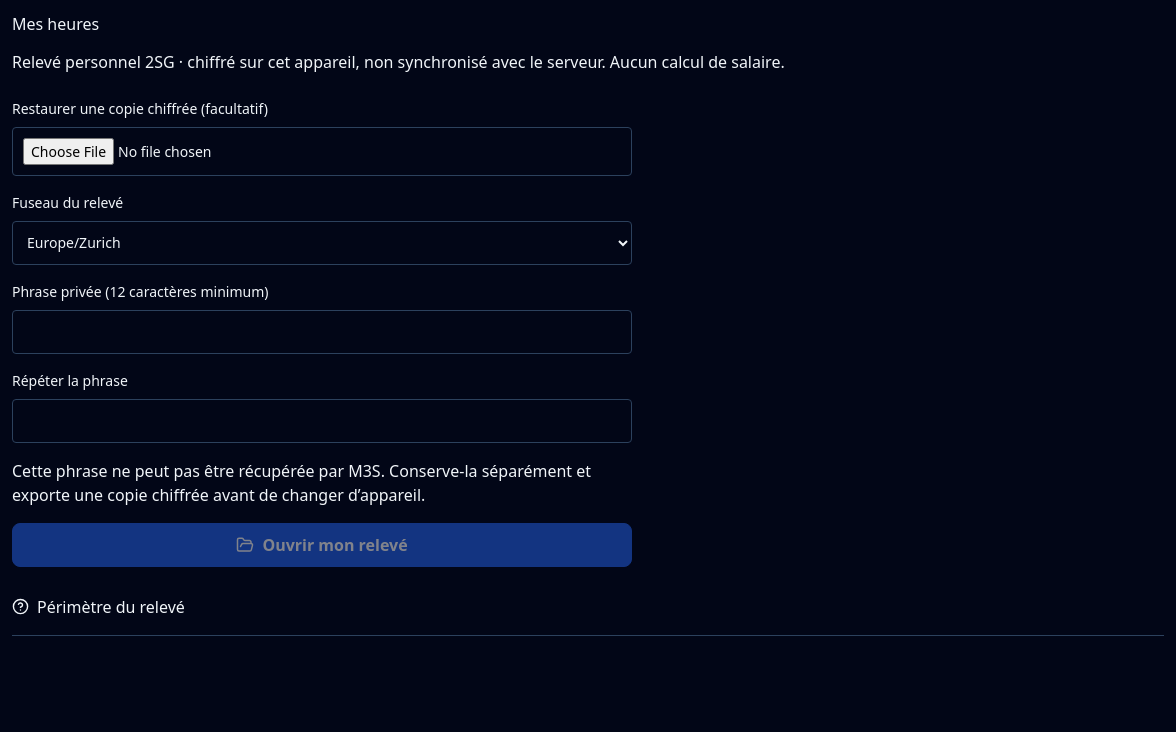
Test: locked and open FR states are translated and do not claim server sync or employee pay
The width and height of the screenshot is (1176, 732).
In the password field labelled "Phrase privée (12 caractères minimum)": (322, 332) [12, 310, 632, 354], type "synthetic private hours"
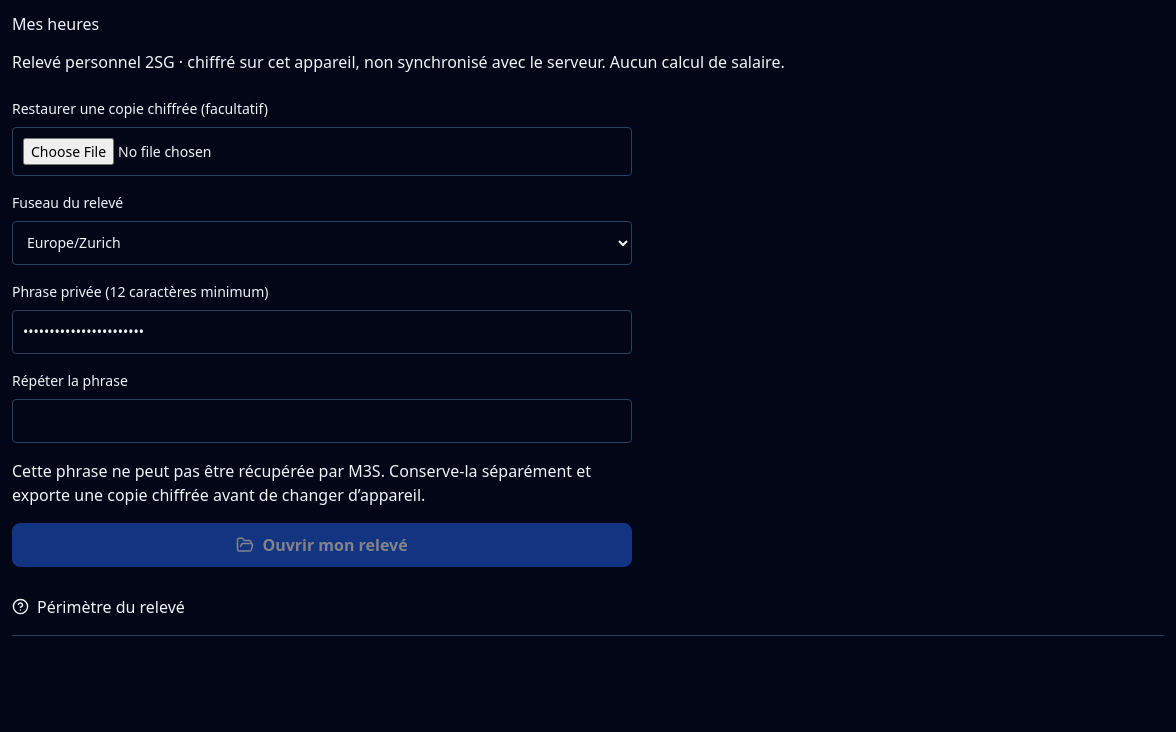
In the password field labelled "Répéter la phrase": (322, 421) [12, 399, 632, 443], type "synthetic private hours"
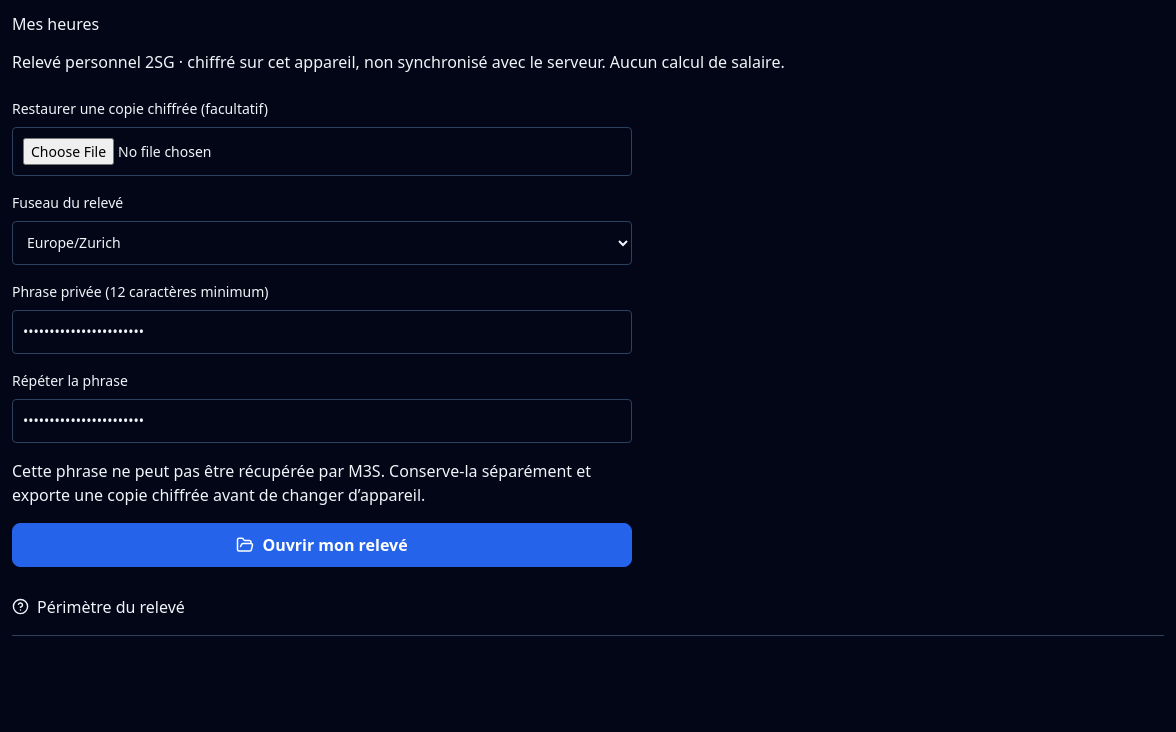
Click the button "Ouvrir mon relevé": (322, 545) [12, 523, 632, 567]
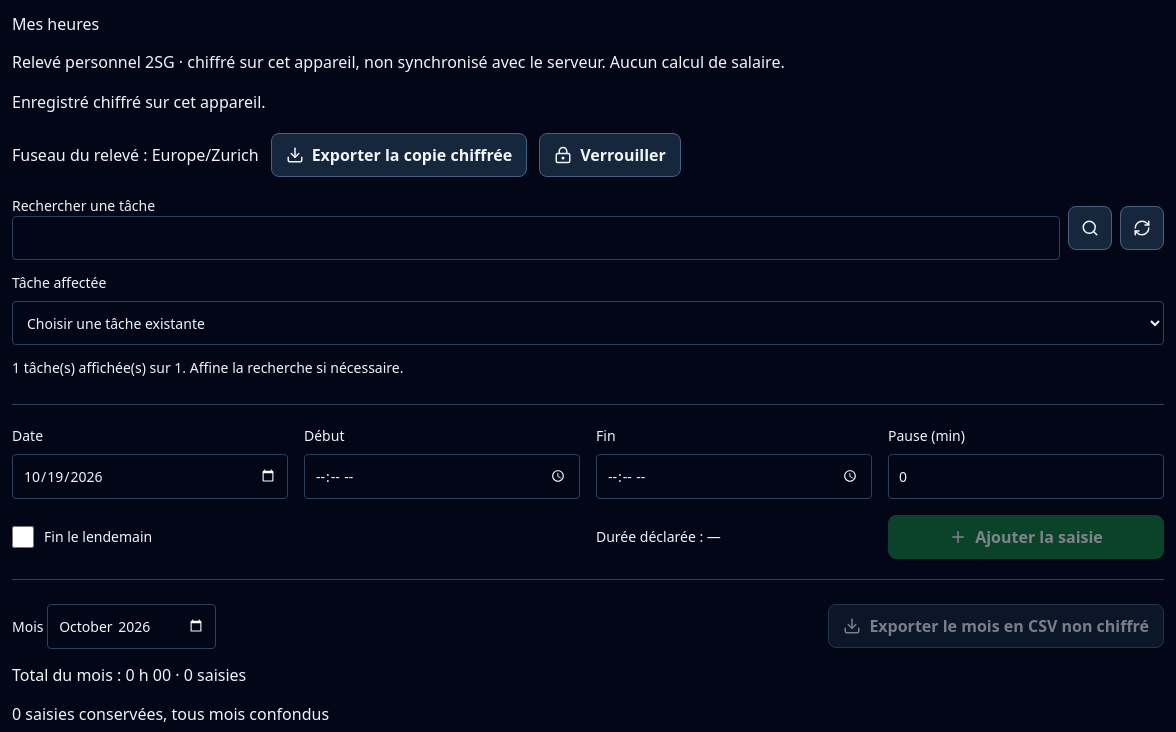
Check: the button "Verrouiller" is shown, box [539, 133, 681, 177]
Check: the dropdown labelled "Tâche affectée" is shown, box [12, 301, 1164, 345]
Check: the label labelled "Phrase privée (12 caractères minimum)" is gone
